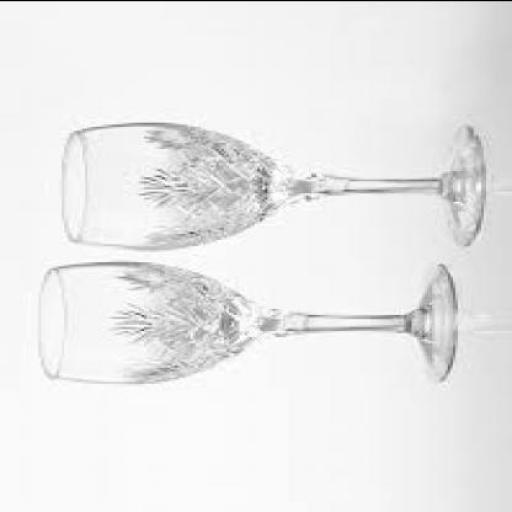glass: (36, 258, 455, 383), (59, 122, 481, 242)
